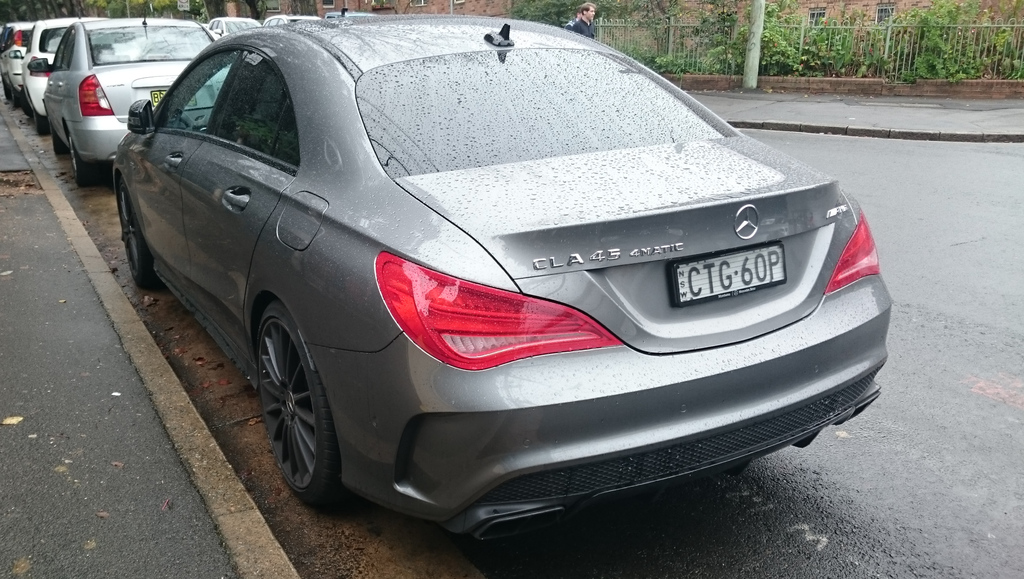Car: (110, 8, 896, 544), (42, 3, 240, 178), (23, 15, 90, 130), (0, 19, 38, 99)
